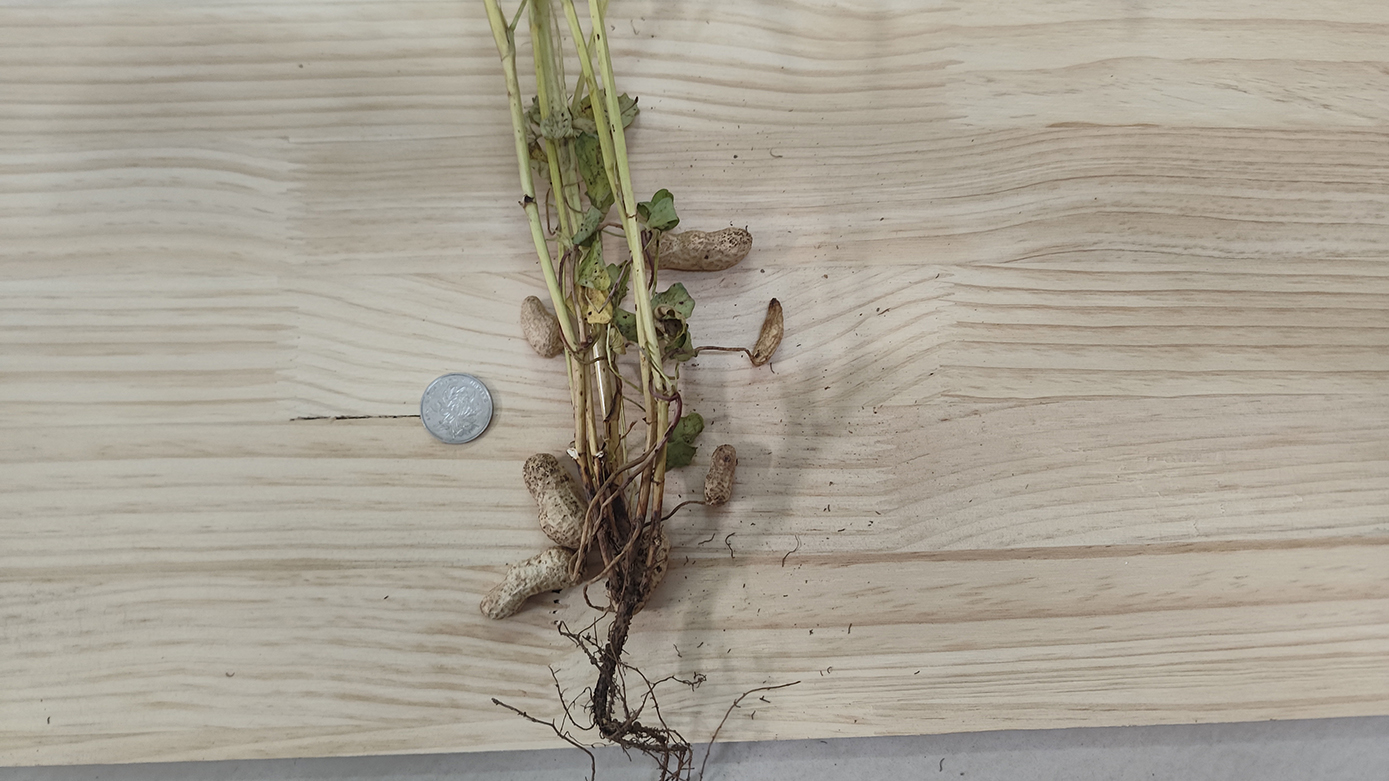h: (479, 547, 585, 619), (525, 454, 596, 550), (645, 229, 754, 272), (633, 531, 671, 614), (521, 296, 562, 358), (703, 441, 737, 504)
l: (753, 299, 783, 365)
